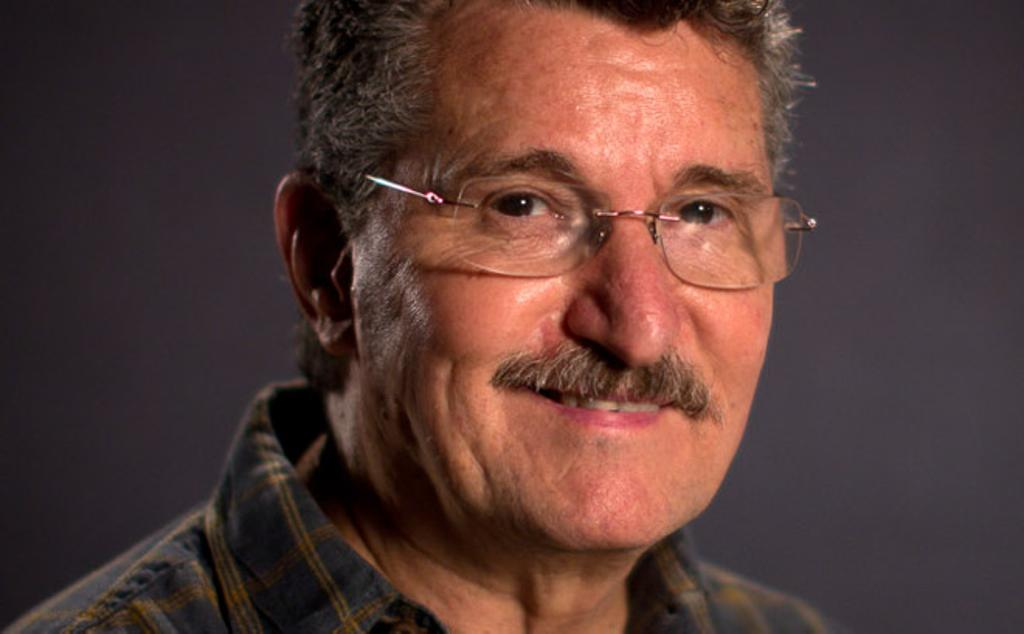face: (358, 12, 774, 554)
